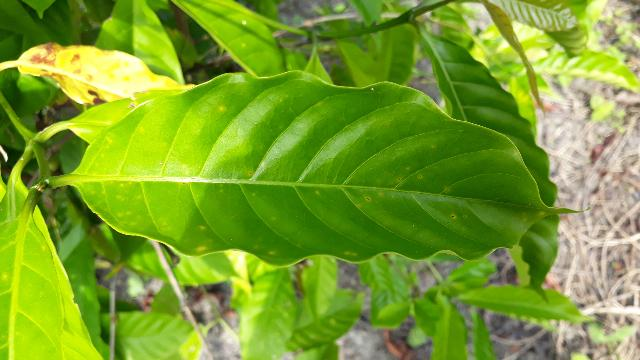rust_level_1: (70, 67, 594, 267)
